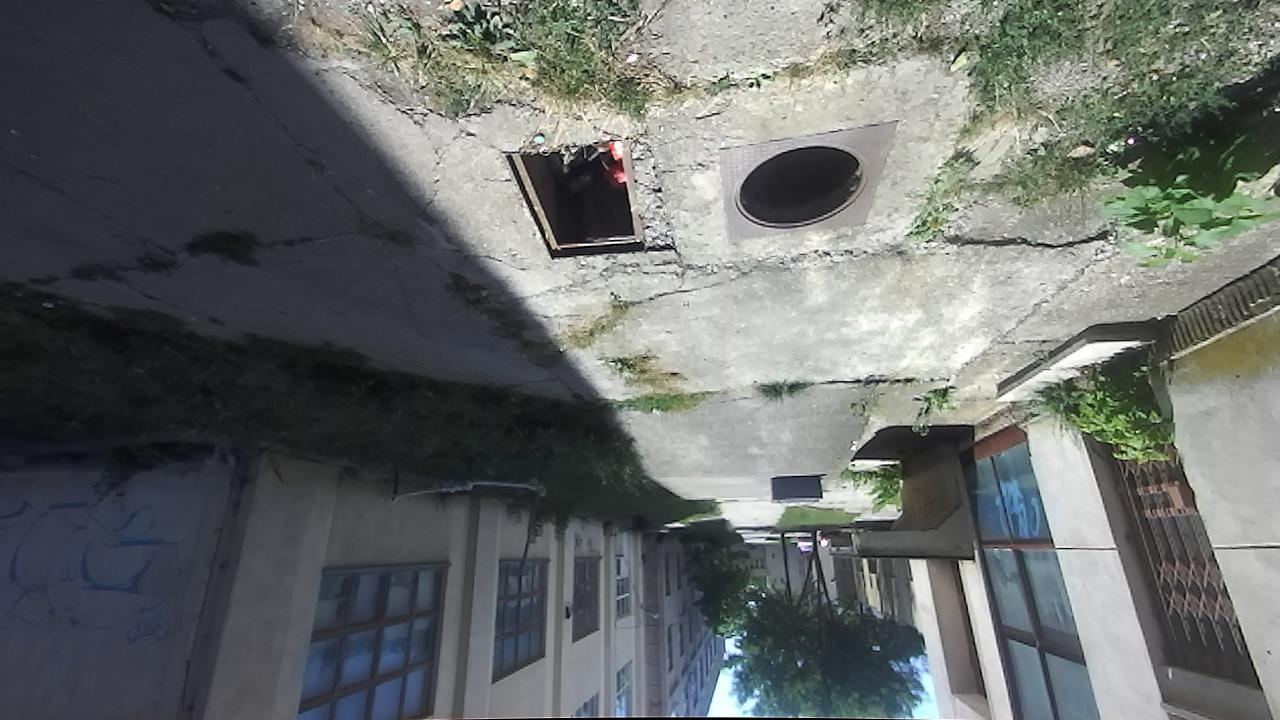drain: (498, 141, 671, 263), (735, 146, 876, 232)
